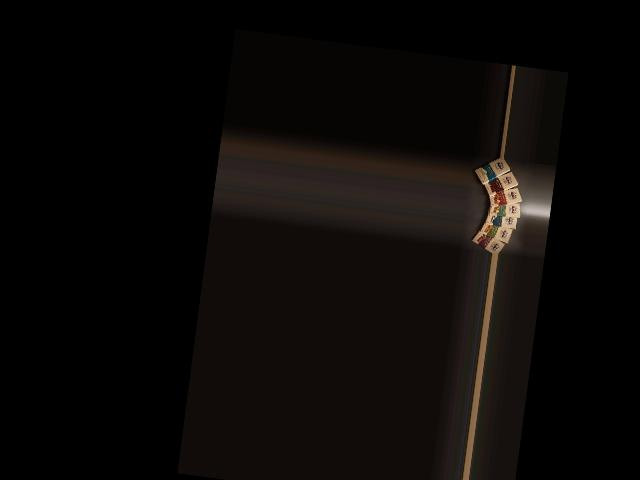chocolate: (470, 155, 512, 188)
